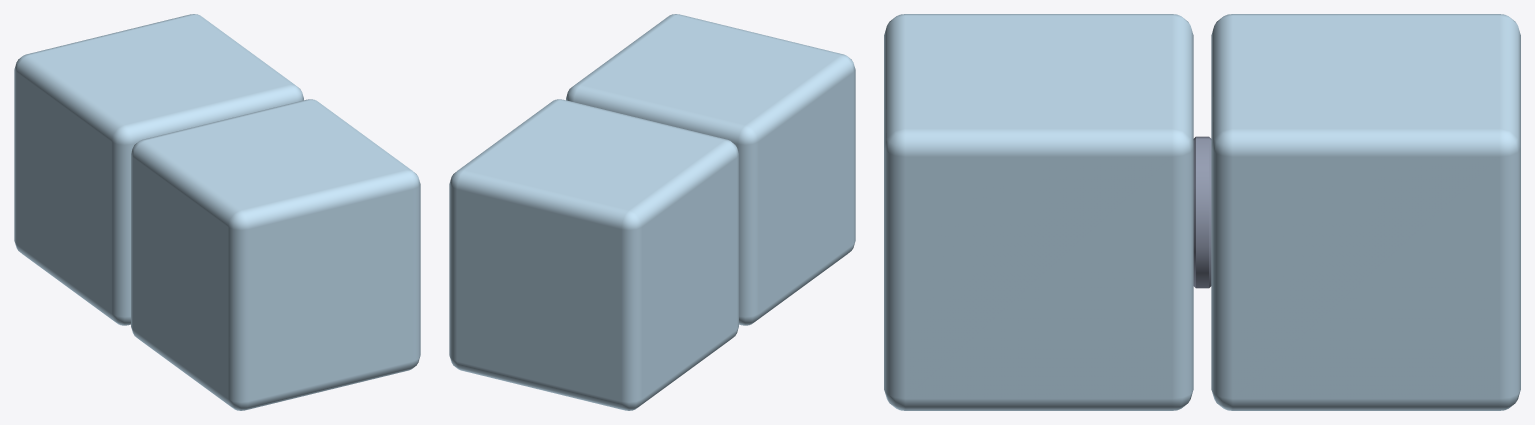
The model's file is R4C_STRUT_SHORT.glb.
3 renders of one model, left to right at view 1: azimuth 30°, elevation 25°; view 2: azimuth 150°, elevation 25°; view 3: azimuth 270°, elevation 25°, orthographic. The views are drawn at different scales.
Parts seen in each view (by area): view 1: R4C_STRUT_SHORT; view 2: R4C_STRUT_SHORT; view 3: R4C_STRUT_SHORT.
Boxes of the visible parts, box(x1,y1,x2,y2) form: R4C_STRUT_SHORT: box(14, 14, 420, 410); R4C_STRUT_SHORT: box(449, 14, 855, 410); R4C_STRUT_SHORT: box(884, 14, 1520, 410).
Size of the model in its own units: 0.52 by 0.52 by 1.07.
